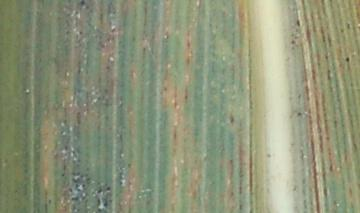tarspot: (100, 193, 110, 208), (263, 151, 273, 162), (228, 112, 236, 125), (184, 37, 192, 49), (62, 143, 71, 153), (326, 67, 332, 82), (70, 195, 80, 203), (327, 163, 335, 173), (343, 56, 351, 64), (295, 110, 303, 118), (80, 182, 88, 190), (95, 187, 103, 195), (64, 29, 72, 37), (294, 18, 301, 27), (345, 22, 352, 31), (46, 198, 53, 207), (77, 29, 84, 37), (104, 185, 112, 192), (60, 172, 67, 180), (109, 27, 117, 34), (183, 93, 190, 101), (79, 1, 86, 8), (290, 38, 296, 46), (323, 53, 329, 61), (162, 85, 168, 93), (207, 21, 213, 29), (105, 64, 110, 72), (319, 1, 326, 6)
